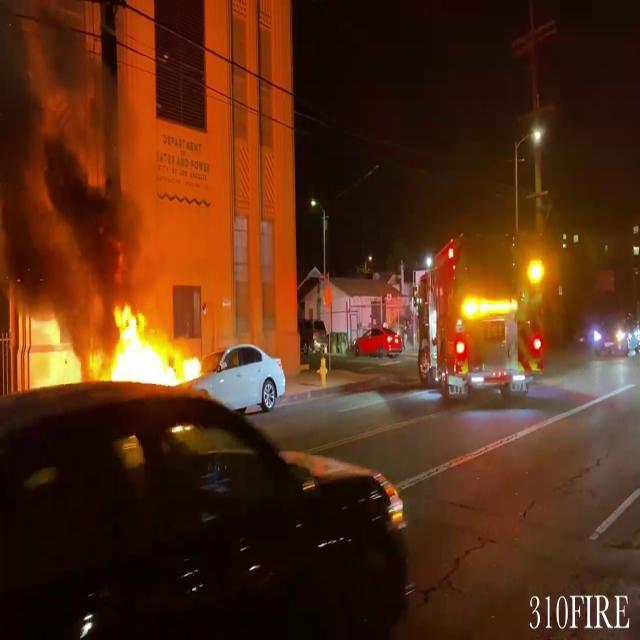Fire: (89, 296, 206, 396)
Smoke: (0, 0, 156, 292)
